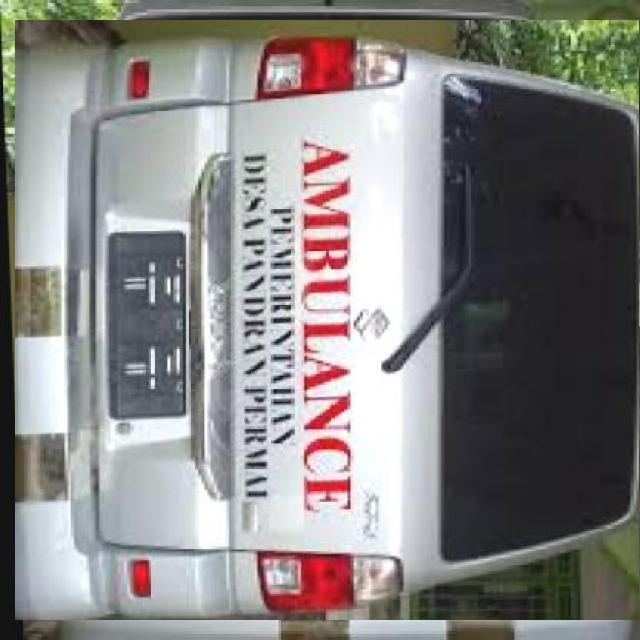emergency-vehicle: (23, 11, 640, 628)
